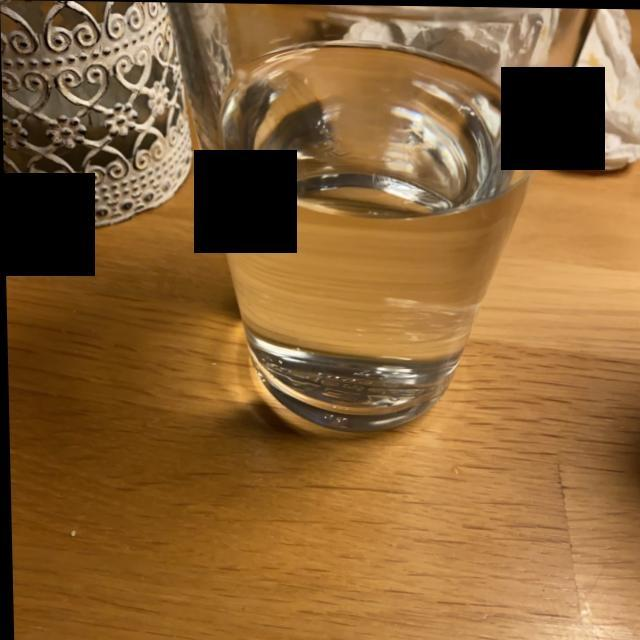water: (207, 47, 524, 404)
